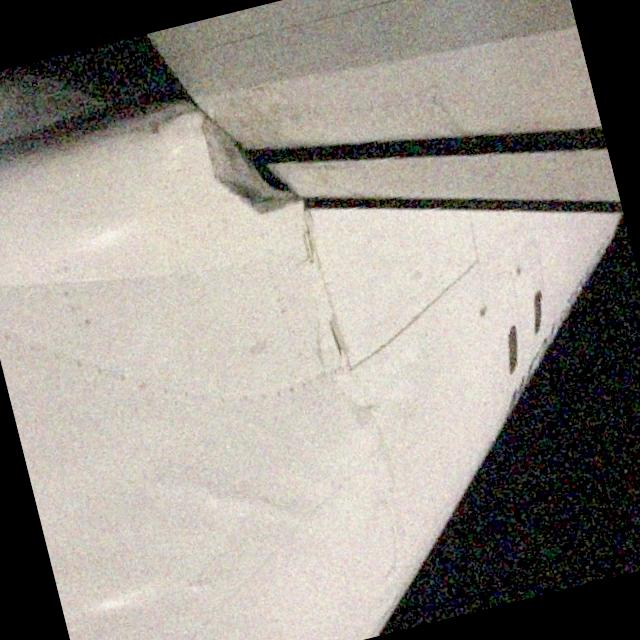dent: (336, 366, 404, 438), (90, 580, 165, 629), (75, 220, 134, 265)
